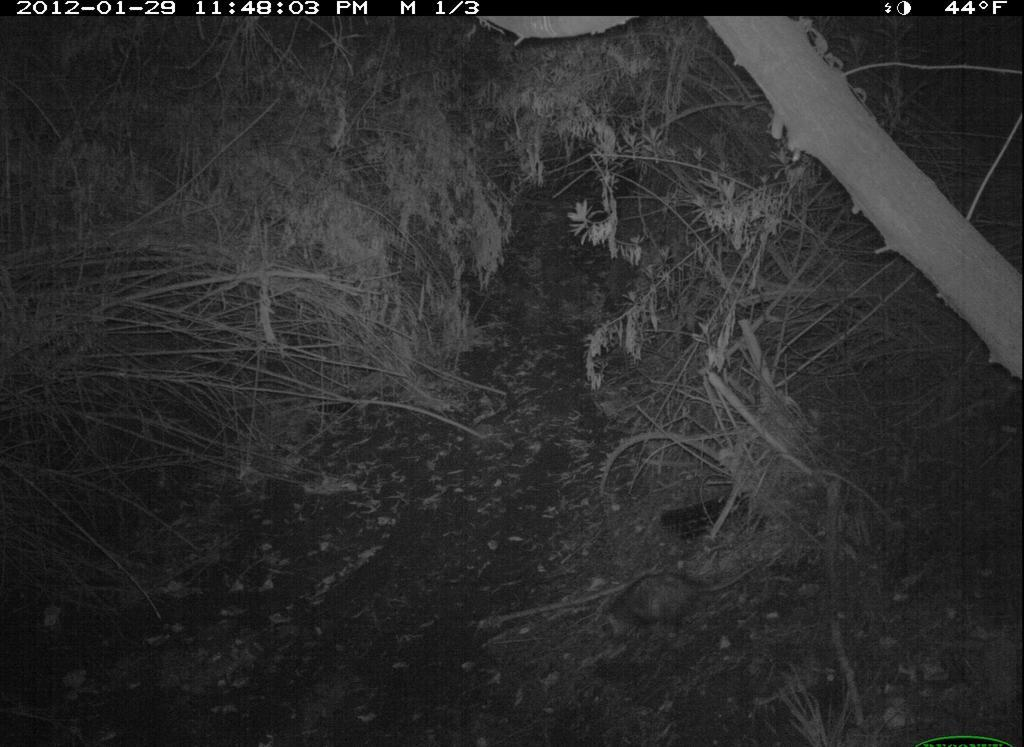opossum: (587, 547, 784, 642)
